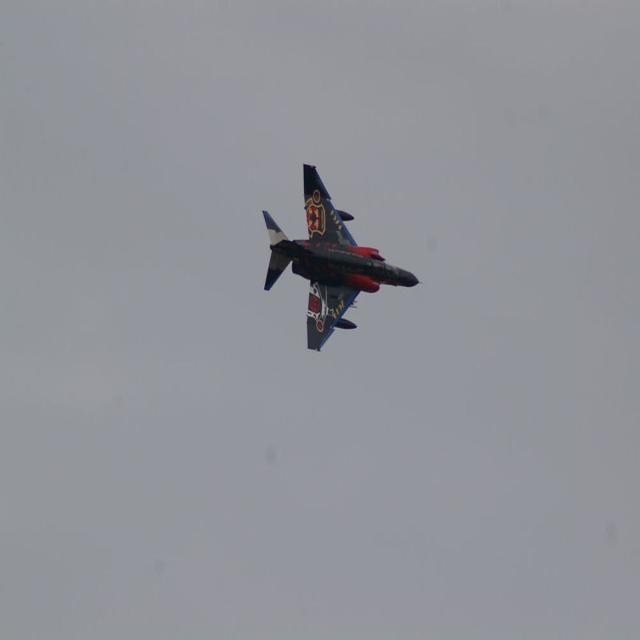MIL_Plane: (262, 162, 424, 352)
